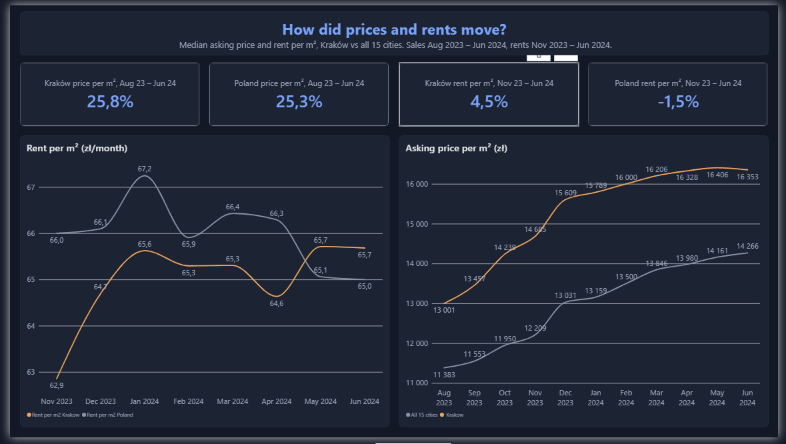

The dashboard page shown, as its layout file describes it:
{"tool":"powerbi","page":{"name":"Price trends","canvas":[1920,1080],"ordinal":2},"visuals":[{"type":"lineChart","title":"Asking price per m² (zł)","fields":{"Category":["Calendar.Month Name"],"Y":["_Measures.Price per m2 Poland","_Measures.Price per m2 Krakow"]},"box":[972,326,924,730],"z":0},{"type":"lineChart","title":"Rent per m² (zł/month)","fields":{"Category":["Calendar.Month Name"],"Y":["_Measures.Rent per m2 Krakow","_Measures.Rent per m2 Poland"]},"box":[24,326,924,730],"z":1000},{"type":"cardVisual","fields":{"Data":["_Measures.Krakow Price Change"]},"box":[24,142,450,160],"z":2000},{"type":"cardVisual","fields":{"Data":["_Measures.Poland Price Change"]},"box":[498,142,450,160],"z":3000},{"type":"cardVisual","fields":{"Data":["_Measures.Krakow Rent Change"]},"box":[972,142,450,160],"z":4000},{"type":"cardVisual","fields":{"Data":["_Measures.Poland Rent Change"]},"box":[1446,142,450,160],"z":5000},{"type":"textbox","box":[24,16,1872,110],"z":6000}]}

Visuals, with their boxes in screenshot pixels (x1, y1, x2, y2), scaled from the page's 1920x1080 canvas onto the 786x444 screenshot:
"Asking price per m² (zł)" lineChart: (left=398, top=134, right=776, bottom=434)
"Rent per m² (zł/month)" lineChart: (left=10, top=134, right=388, bottom=434)
cardVisual - _Measures.Krakow Price Change: (left=10, top=58, right=194, bottom=124)
cardVisual - _Measures.Poland Price Change: (left=204, top=58, right=388, bottom=124)
cardVisual - _Measures.Krakow Rent Change: (left=398, top=58, right=582, bottom=124)
cardVisual - _Measures.Poland Rent Change: (left=592, top=58, right=776, bottom=124)
textbox: (left=10, top=7, right=776, bottom=52)
